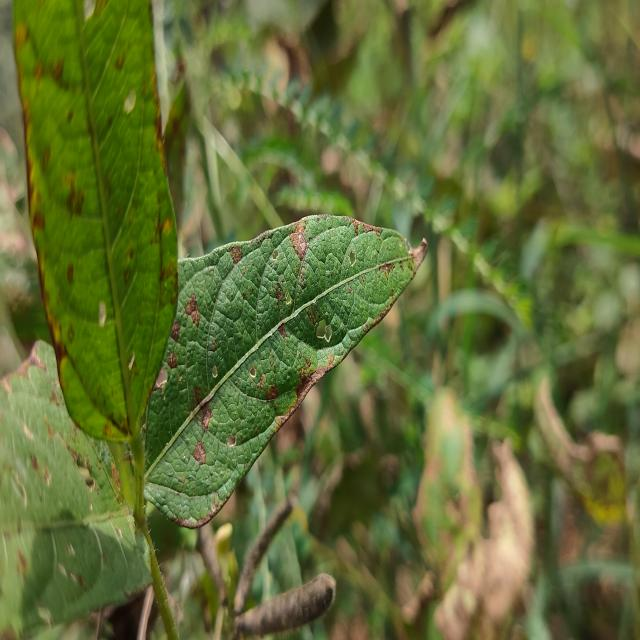Black gram_leaf spot: (131, 208, 426, 538), (10, 0, 176, 440)
